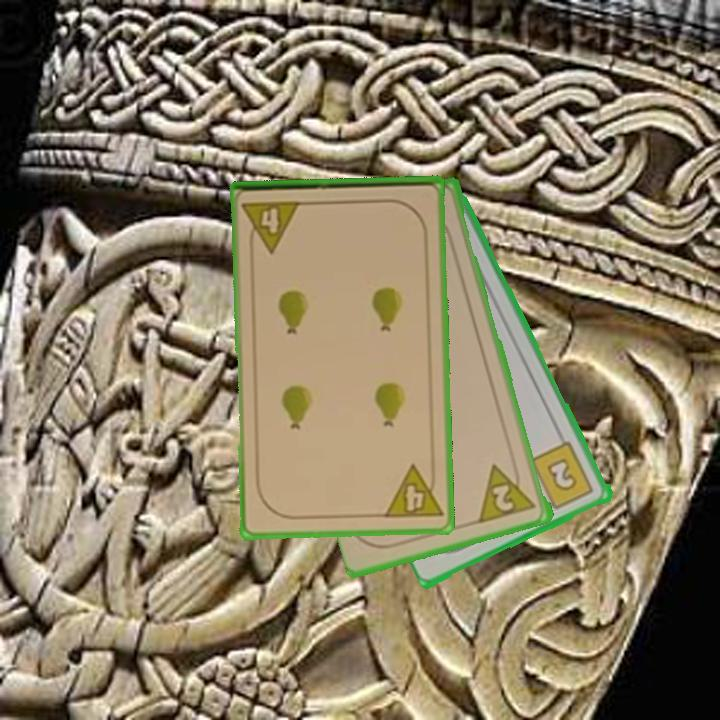2b: (528, 438, 597, 514)
2p: (476, 456, 540, 526)
4p: (380, 461, 445, 522), (239, 197, 304, 255)
